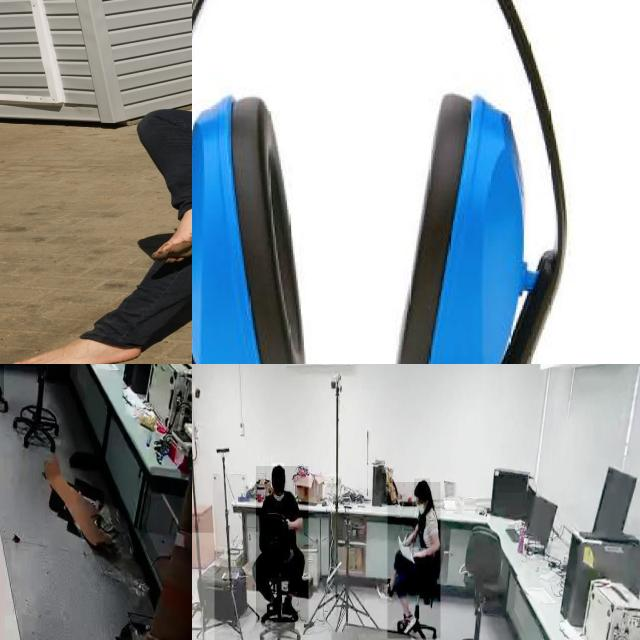Barefoots: (11, 337, 141, 364), (151, 201, 192, 263)
Ear-protection: (192, 0, 585, 364)
face_mask: (274, 481, 286, 504), (415, 497, 427, 518)
glasses: (280, 594, 300, 624), (396, 611, 417, 637), (376, 583, 394, 601)
hand_noglove: (411, 548, 425, 558)
head_nohelmet: (414, 478, 430, 496), (271, 463, 285, 478)
person: (387, 482, 441, 639), (256, 466, 309, 623)
